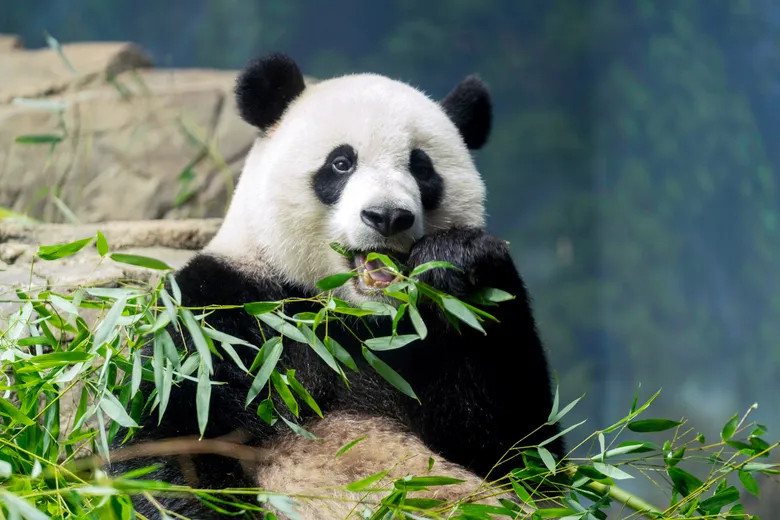Giant panda: (226, 51, 495, 313)
